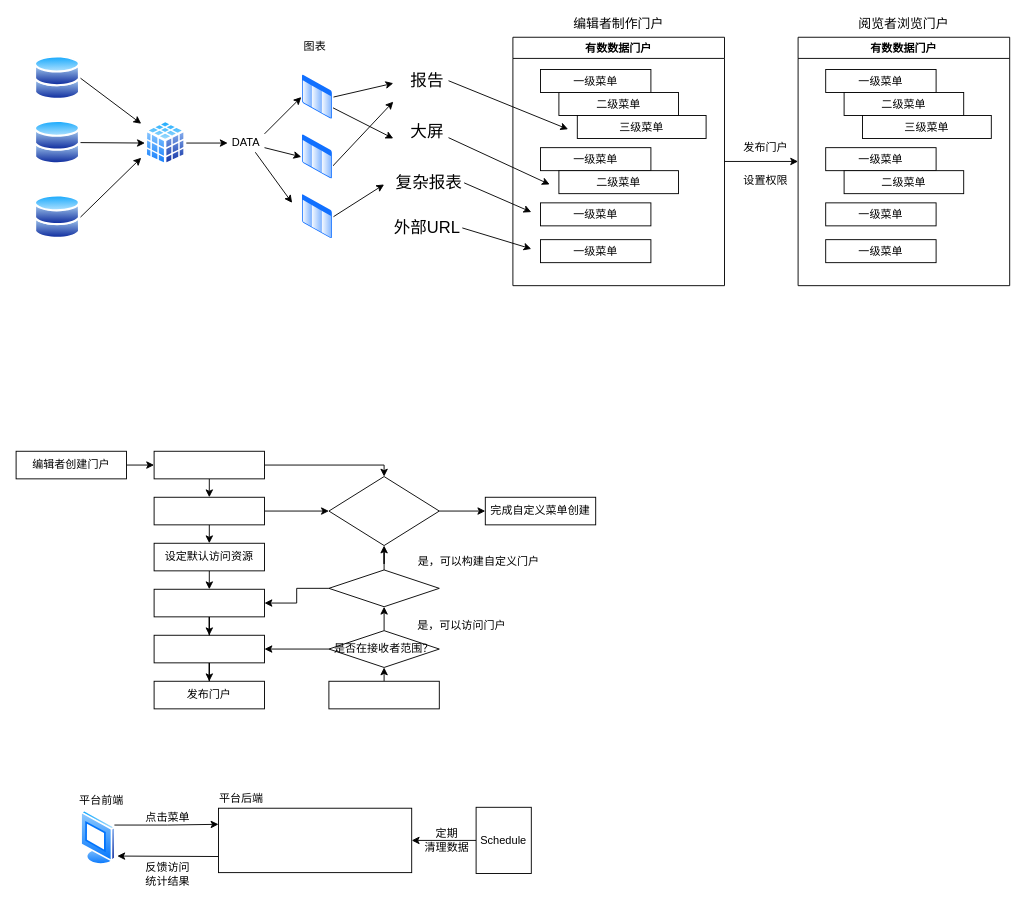
The diagram is 1026 pixels wide and 903 high, and some of its shapes have lost their labels. Here are the shapes that lost their labels. From the top down, the centre of each, then its label:
point (208, 464): 构建自定义组件
point (208, 510): 设定看板资源范围
point (383, 511): 选择可创建的组件，范围内的资源
point (208, 602): 开启自定义功能选项
point (383, 588): 是否开启自定义？
point (208, 648): 设定接收者范围
point (383, 694): 阅览者
point (315, 840): 以用户为粒度，维护菜单记录信息， 返回实时统计数据
